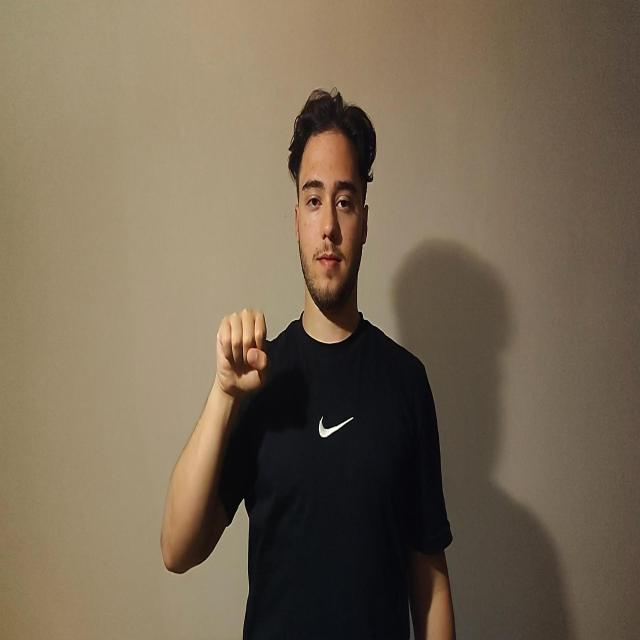yes: (215, 306, 268, 398)
